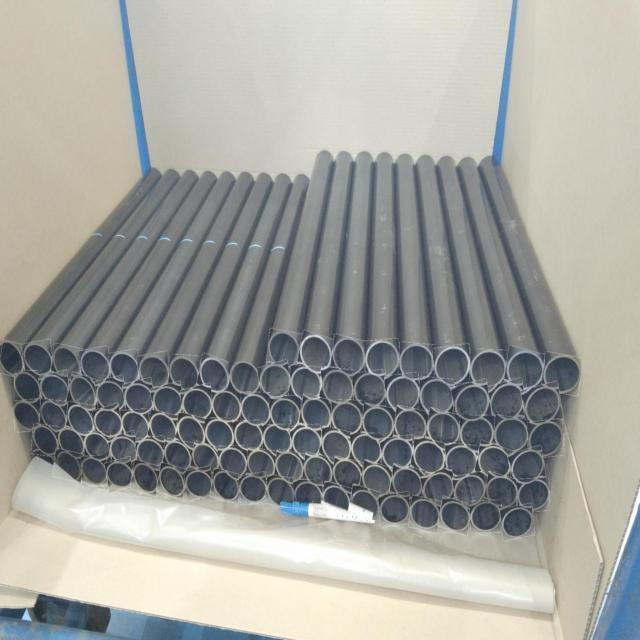pipe: (508, 351, 545, 391), (525, 386, 562, 424), (435, 347, 471, 386), (545, 356, 581, 394), (471, 351, 507, 388), (455, 385, 491, 420), (496, 418, 530, 455), (367, 341, 400, 378), (334, 338, 365, 376), (491, 384, 525, 418), (401, 345, 434, 380), (530, 422, 563, 457), (301, 335, 332, 372), (421, 380, 454, 414), (387, 377, 420, 410), (513, 451, 546, 484), (291, 367, 323, 400), (428, 414, 461, 446), (462, 418, 494, 450), (323, 370, 354, 403), (332, 403, 363, 436), (479, 446, 512, 477), (355, 374, 386, 406), (415, 442, 446, 474), (447, 446, 478, 478), (261, 365, 291, 398), (200, 358, 229, 392), (268, 333, 299, 364), (364, 408, 394, 440), (383, 438, 413, 470), (488, 477, 518, 509), (503, 508, 535, 538), (396, 410, 427, 440), (322, 431, 352, 462), (519, 480, 550, 510), (455, 476, 486, 506), (424, 473, 454, 504), (230, 362, 259, 394), (352, 435, 382, 465), (139, 356, 168, 387), (170, 356, 198, 388), (110, 352, 138, 384), (242, 395, 270, 427), (81, 349, 108, 382), (302, 399, 331, 429), (271, 399, 300, 429), (183, 389, 212, 419), (205, 420, 234, 450), (363, 466, 392, 496), (441, 502, 470, 532), (40, 375, 68, 406), (213, 392, 241, 422), (124, 384, 152, 414), (393, 468, 423, 496), (472, 504, 502, 532), (411, 500, 439, 530), (67, 405, 94, 436), (177, 417, 204, 448), (23, 345, 51, 374), (153, 387, 181, 416), (235, 422, 263, 451), (276, 454, 303, 484), (220, 448, 247, 478), (93, 410, 121, 438), (293, 428, 321, 456), (381, 496, 409, 524), (39, 402, 66, 431), (264, 425, 291, 454), (305, 457, 332, 486), (164, 443, 191, 472), (96, 381, 123, 409), (137, 440, 164, 468), (13, 373, 39, 402), (53, 346, 78, 376), (32, 426, 57, 456), (69, 377, 93, 408), (0, 342, 23, 374), (334, 461, 361, 488), (248, 451, 275, 478), (13, 402, 39, 430), (213, 472, 239, 500), (159, 468, 185, 496), (133, 464, 157, 494), (110, 437, 136, 464), (268, 478, 295, 504), (150, 414, 175, 442), (192, 445, 218, 471), (353, 490, 379, 516), (84, 434, 109, 461), (124, 412, 148, 440), (324, 486, 350, 511), (241, 476, 266, 502), (58, 429, 82, 456), (188, 471, 212, 498), (55, 453, 79, 480), (107, 463, 132, 488), (81, 459, 106, 484), (296, 483, 323, 504)
